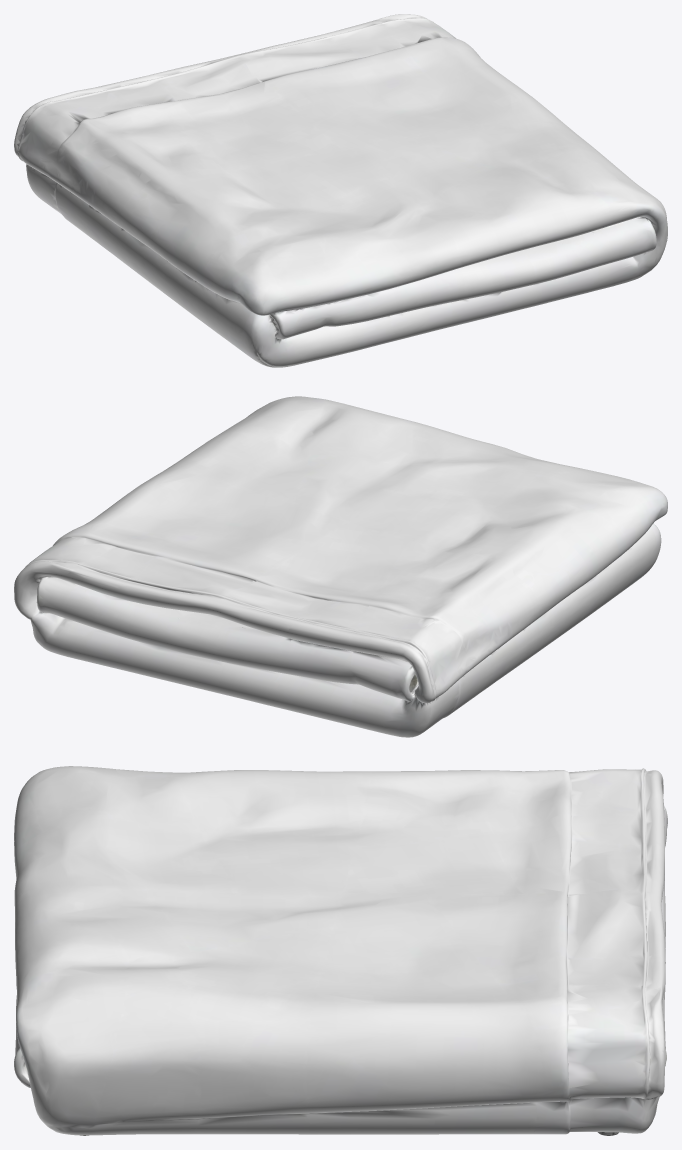
3 views of the same model, one above another, from view 1: azimuth 30°, elevation 25°; view 2: azimuth 150°, elevation 25°; view 3: azimuth 270°, elevation 25° (orthographic). The views are drawn at different scales.
Parts seen in each view (by area): view 1: tripo_node_6d152fc4-4d26-4a32-8dea-e78f910a1461; view 2: tripo_node_6d152fc4-4d26-4a32-8dea-e78f910a1461; view 3: tripo_node_6d152fc4-4d26-4a32-8dea-e78f910a1461.
Part boxes in pixels (left/top/right/bottom): tripo_node_6d152fc4-4d26-4a32-8dea-e78f910a1461: left=14, top=14, right=667, bottom=367; tripo_node_6d152fc4-4d26-4a32-8dea-e78f910a1461: left=14, top=396, right=667, bottom=737; tripo_node_6d152fc4-4d26-4a32-8dea-e78f910a1461: left=14, top=766, right=667, bottom=1135.
Size of the model in its own units: 0.9916 by 0.2397 by 0.9999.
1 material, 1 textured.
